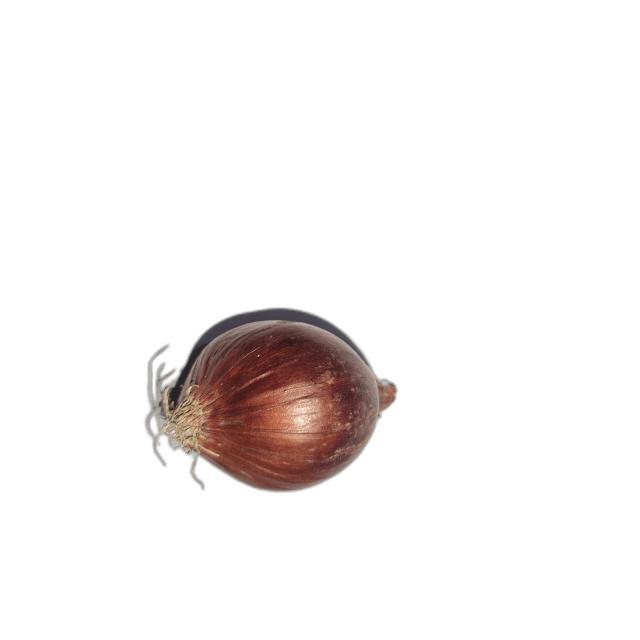onion: (155, 320, 398, 493)
